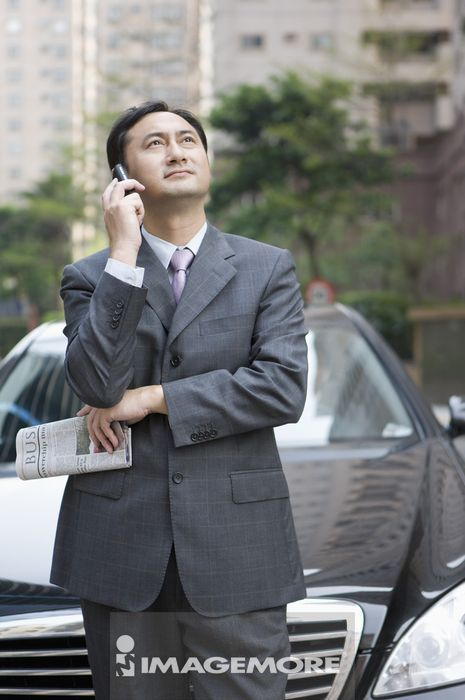talk: (99, 124, 208, 245)
